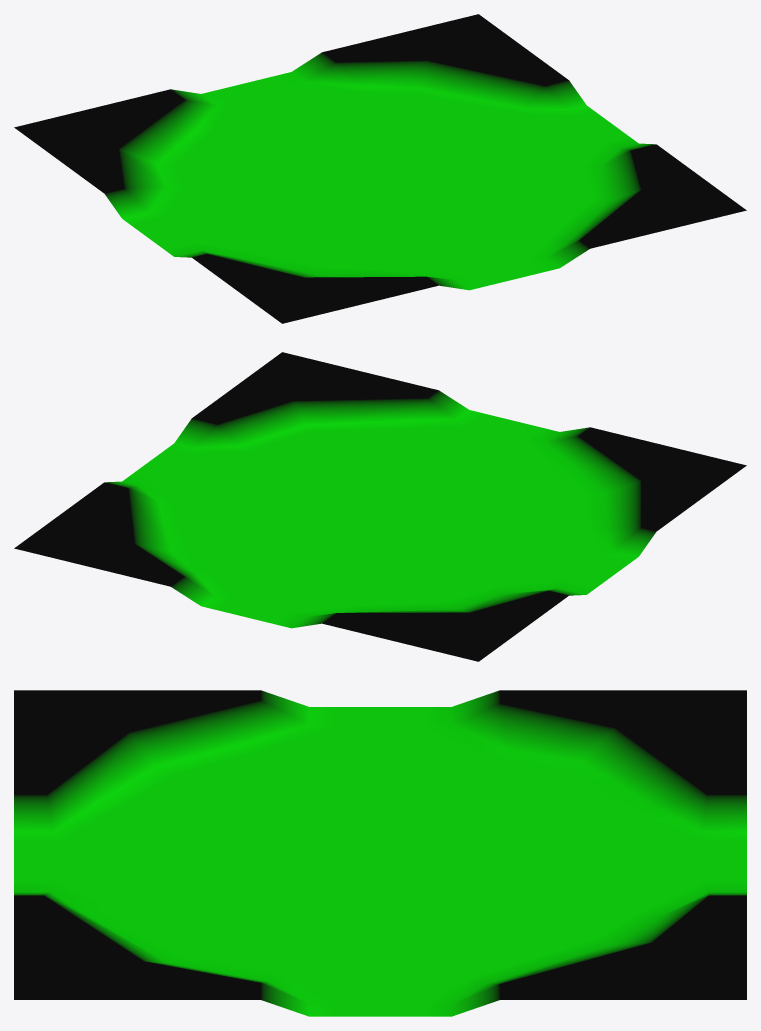
File: SM_Ground_8m_PathwaySquareB.FBX
The picture shows the model from 3 angles, top to bottom: view 1: azimuth 30°, elevation 25°; view 2: azimuth 150°, elevation 25°; view 3: azimuth 270°, elevation 25°; orthographic projection. The views are drawn at different scales.
Parts seen in each view (by area): view 1: SM_Ground_8m_PathwaySquareB; view 2: SM_Ground_8m_PathwaySquareB; view 3: SM_Ground_8m_PathwaySquareB.
Part boxes in pixels (x1,y1,x2,y2): SM_Ground_8m_PathwaySquareB: [14, 14, 746, 323]; SM_Ground_8m_PathwaySquareB: [14, 352, 746, 661]; SM_Ground_8m_PathwaySquareB: [14, 690, 746, 1016].
Bounding box in the file's own units: 800 × 800 × 20.
